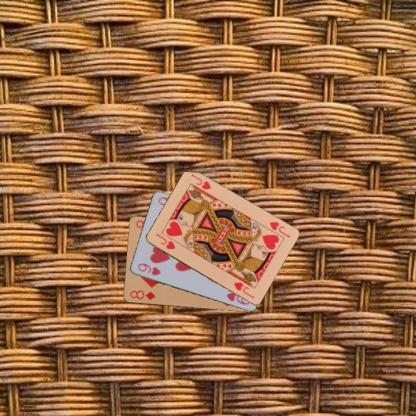8d: (127, 288, 157, 301)
9h: (136, 260, 162, 276)
Jh: (267, 219, 291, 239), (153, 230, 176, 250)
